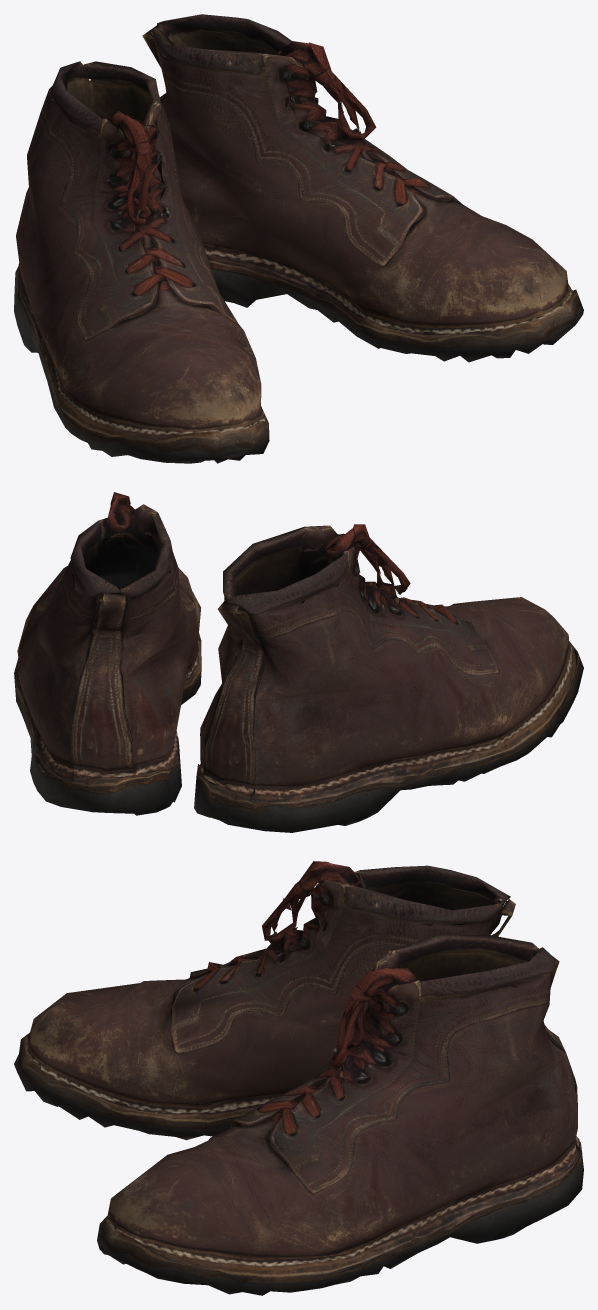
File: boots_old.glb
3 views of the same model, one above another, from view 1: azimuth 30°, elevation 25°; view 2: azimuth 150°, elevation 25°; view 3: azimuth 270°, elevation 25° (orthographic). The views are drawn at different scales.
Visible parts, largest first — view 1: Sphere001_defaultMat_0; view 2: Sphere001_defaultMat_0; view 3: Sphere001_defaultMat_0.
Part boxes in pixels (<box>): Sphere001_defaultMat_0: <box>14,14,583,463</box>; Sphere001_defaultMat_0: <box>14,492,583,832</box>; Sphere001_defaultMat_0: <box>14,861,583,1295</box>.
Bounding box in the file's own units: 40.93 × 20.58 × 40.08.
Materials: 1 (1 with a texture image).
